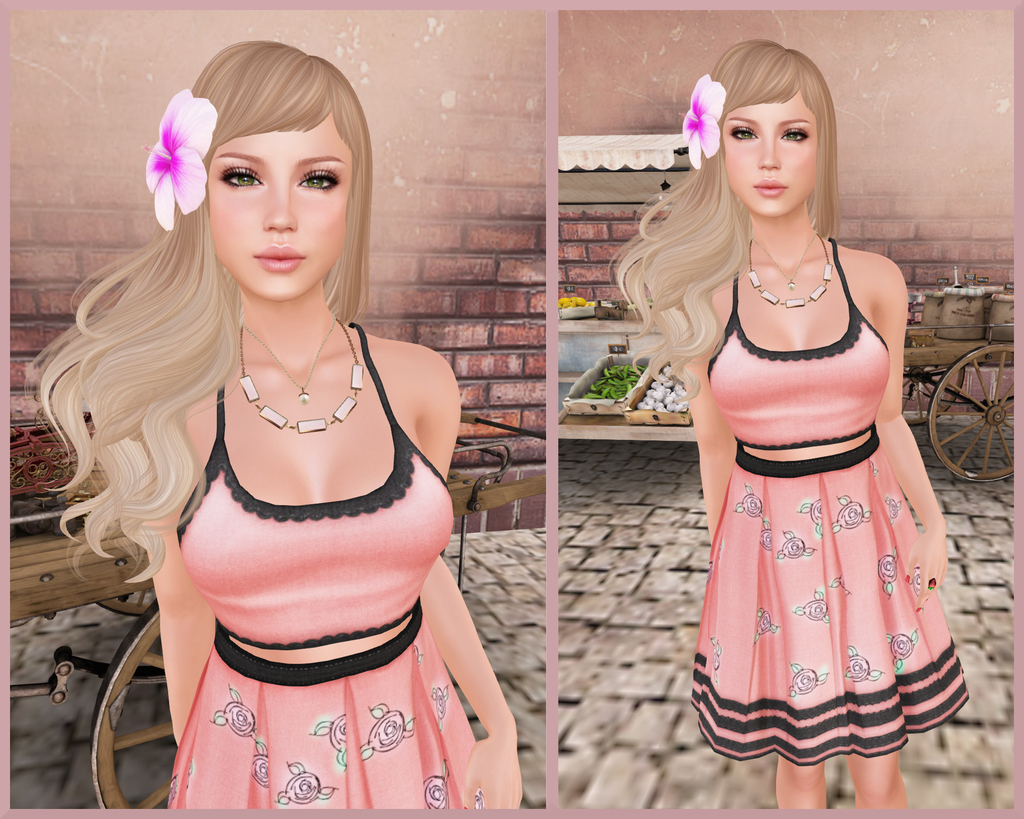Person: (24, 40, 522, 808), (608, 38, 969, 809)
